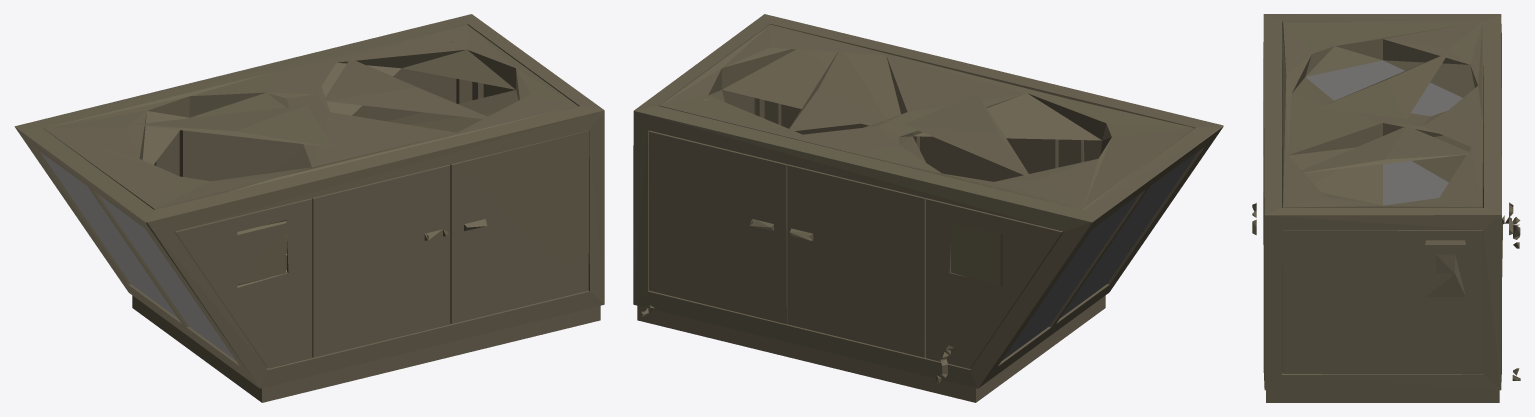
File: hvac-unit.lod1.glb
3 views of the same model, side by side, from view 1: azimuth 30°, elevation 25°; view 2: azimuth 150°, elevation 25°; view 3: azimuth 270°, elevation 25° (orthographic). The views are drawn at different scales.
Parts seen in each view (by area): view 1: Object_6; view 2: Object_6; view 3: Object_6.
Boxes of the visible parts, left/top/right/bottom form: Object_6: left=14, top=14, right=604, bottom=402; Object_6: left=633, top=14, right=1223, bottom=402; Object_6: left=1252, top=14, right=1520, bottom=402.
Size of the model in its own units: 2.59 by 1.12 by 1.42.
